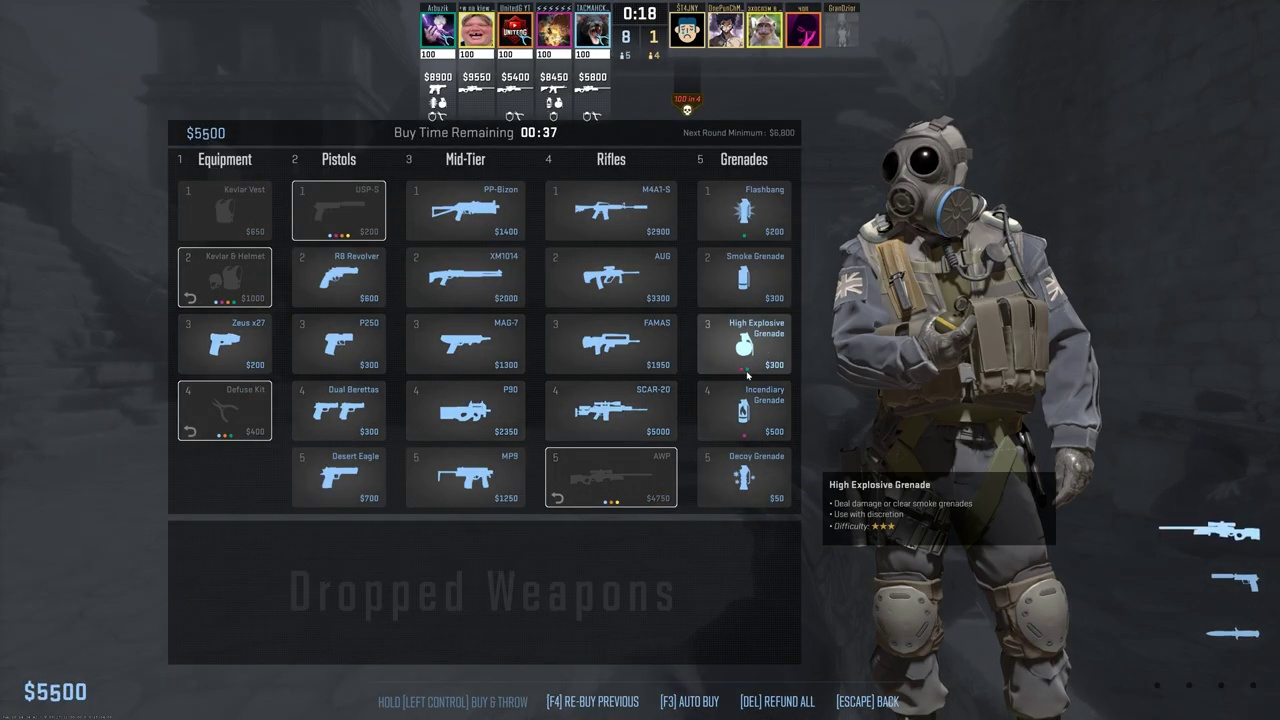CT: (857, 120, 1075, 709)
